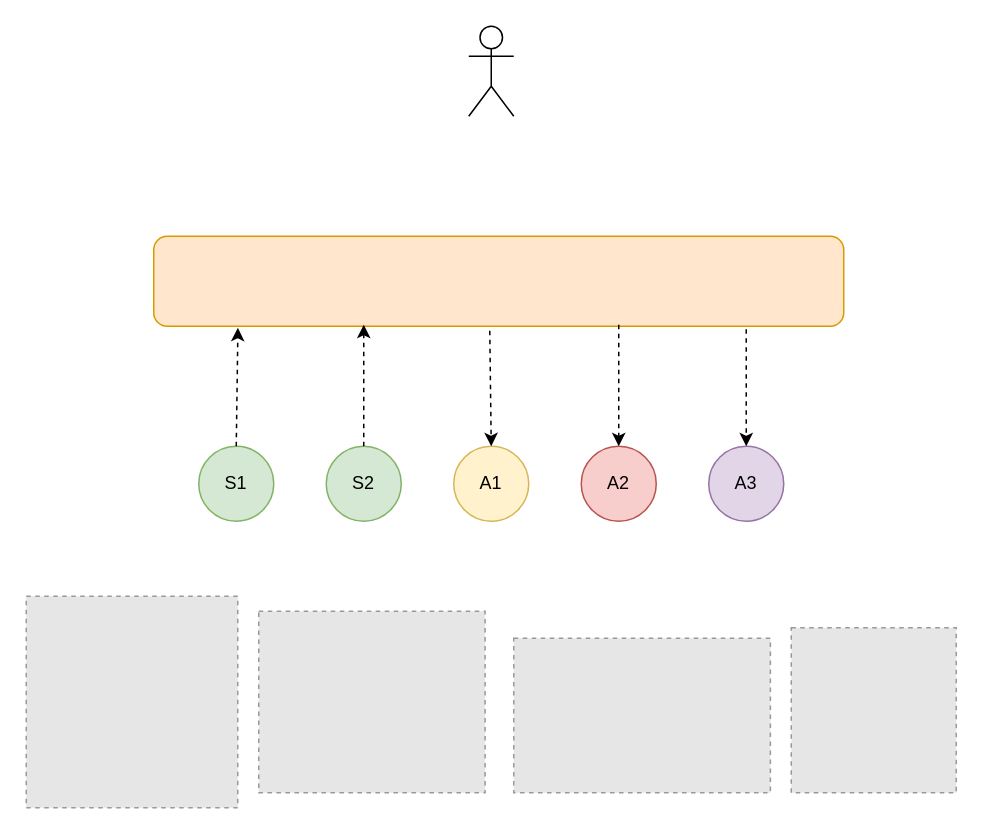
Image size: 983x834. Some labels were removed from this diagram. Grey dashed boxes stand in for pictures. Each missing label, with the centre of its shape:
Actor: (x=490, y=70)
Platform: (x=498, y=280)
